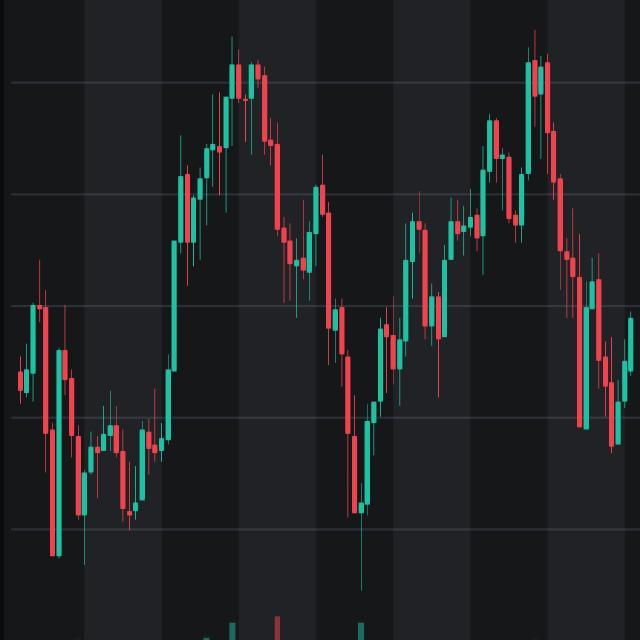Rising-Wedge: (267, 26, 587, 608)
